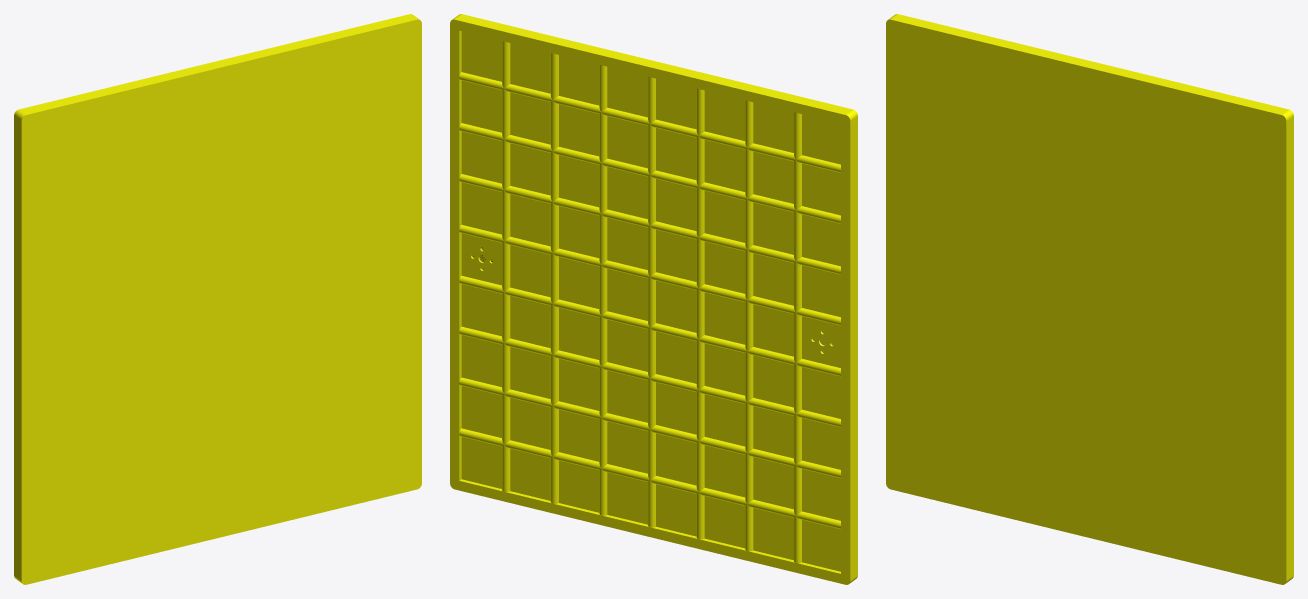
The model's file is GameBoard.glb.
3 renders of one model, left to right at view 1: azimuth 30°, elevation 25°; view 2: azimuth 150°, elevation 25°; view 3: azimuth 330°, elevation 25°, orthographic.
Parts seen in each view (by area): view 1: instance_0.001; view 2: instance_0, instance_0.001; view 3: instance_0.001.
Part boxes in pixels (left/top/right/bottom): instance_0.001: left=14, top=14, right=421, bottom=584; instance_0: left=459, top=30, right=840, bottom=573; instance_0.001: left=450, top=14, right=857, bottom=584; instance_0.001: left=886, top=14, right=1293, bottom=584.
Bounding box in the file's own units: 0.214 × 0.24 × 0.007.
